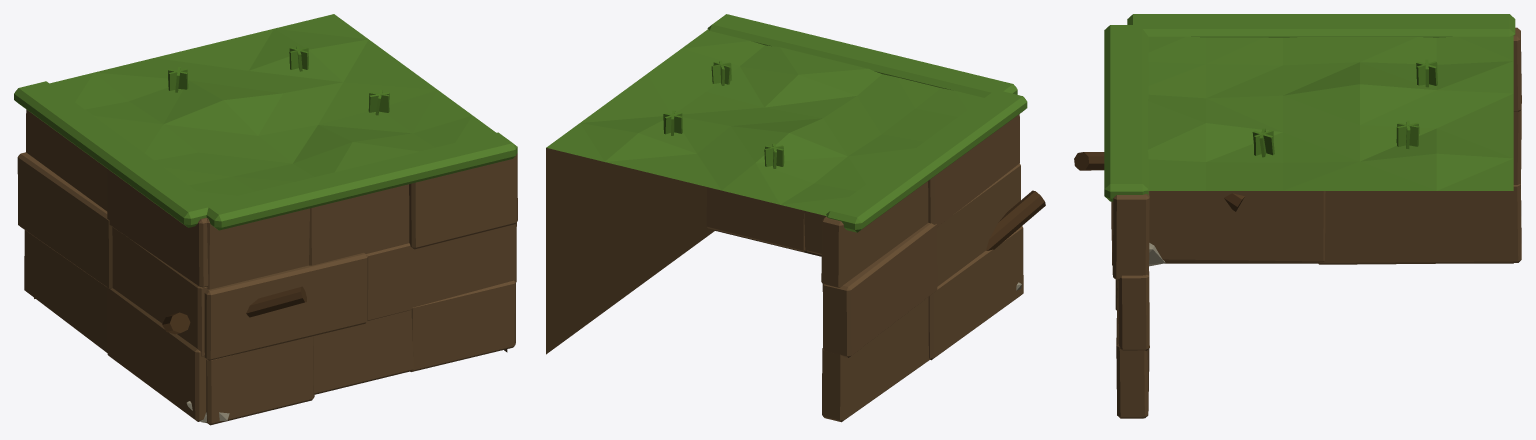
The model's file is SM_Terrain_Rustic_01_Corner.fbx.
3 renders of one model, left to right at view 1: azimuth 30°, elevation 25°; view 2: azimuth 150°, elevation 25°; view 3: azimuth 270°, elevation 25°, orthographic. The views are drawn at different scales.
Visible parts, largest first — view 1: SM_Terrain_Rustic_01_Corner_Bank, SM_Terrain_Rustic_01_Corner_StrataY10, SM_Terrain_Rustic_01_Corner_LipY, SM_Terrain_Rustic_01_Corner_StrataY11, SM_Terrain_Rustic_01_Corner_LipX, SM_Terrain_Rustic_01_Corner_StrataX11, SM_Terrain_Rustic_01_Corner_StrataY22, SM_Terrain_Rustic_01_Corner_StrataX00, SM_Terrain_Rustic_01_Corner_StrataY00, SM_Terrain_Rustic_01_Corner_StrataY02, SM_Terrain_Rustic_01_Corner_StrataY01, SM_Terrain_Rustic_01_Corner_StrataY20 (+7 smaller); view 2: SM_Terrain_Rustic_01_Corner_Bank, SM_Terrain_Rustic_01_Corner_StrataX11, SM_Terrain_Rustic_01_Corner_LipX, SM_Terrain_Rustic_01_Corner_StrataX01, SM_Terrain_Rustic_01_Corner_StrataX00, SM_Terrain_Rustic_01_Corner_LipY, SM_Terrain_Rustic_01_Corner_StrataX21, SM_Terrain_Rustic_01_Corner_StrataX20, SM_Terrain_Rustic_01_Corner_StrataX10, SM_Terrain_Rustic_01_Corner_StrataY02, SM_Terrain_Rustic_01_Corner_KnotA, SM_Terrain_Rustic_01_Corner_StrataY01; view 3: SM_Terrain_Rustic_01_Corner_Bank, SM_Terrain_Rustic_01_Corner_StrataX01, SM_Terrain_Rustic_01_Corner_StrataX00, SM_Terrain_Rustic_01_Corner_LipX, SM_Terrain_Rustic_01_Corner_LipY, SM_Terrain_Rustic_01_Corner_StrataY22, SM_Terrain_Rustic_01_Corner_StrataY11, SM_Terrain_Rustic_01_Corner_StrataY02, SM_Terrain_Rustic_01_Corner_StrataX21, SM_Terrain_Rustic_01_Corner_StrataX11, SM_Terrain_Rustic_01_Corner_KnotB.
Boxes of the visible parts, x1,y1,x2,y2 form: SM_Terrain_Rustic_01_Corner_Bank: (34, 14, 507, 352); SM_Terrain_Rustic_01_Corner_StrataY10: (204, 253, 368, 360); SM_Terrain_Rustic_01_Corner_LipY: (206, 132, 517, 230); SM_Terrain_Rustic_01_Corner_StrataY11: (366, 222, 516, 320); SM_Terrain_Rustic_01_Corner_LipX: (14, 81, 215, 227); SM_Terrain_Rustic_01_Corner_StrataX11: (17, 152, 112, 288); SM_Terrain_Rustic_01_Corner_StrataY22: (409, 153, 517, 249); SM_Terrain_Rustic_01_Corner_StrataX00: (107, 287, 206, 421); SM_Terrain_Rustic_01_Corner_StrataY00: (206, 336, 314, 425); SM_Terrain_Rustic_01_Corner_StrataY02: (410, 280, 515, 371); SM_Terrain_Rustic_01_Corner_StrataY01: (313, 310, 413, 394); SM_Terrain_Rustic_01_Corner_StrataY20: (206, 208, 309, 289); SM_Terrain_Rustic_01_Corner_Bank: (546, 29, 983, 354); SM_Terrain_Rustic_01_Corner_StrataX11: (822, 223, 937, 357); SM_Terrain_Rustic_01_Corner_LipX: (826, 91, 1027, 232); SM_Terrain_Rustic_01_Corner_StrataX01: (822, 297, 929, 422); SM_Terrain_Rustic_01_Corner_StrataX00: (928, 226, 1023, 360); SM_Terrain_Rustic_01_Corner_LipY: (707, 14, 1017, 97); SM_Terrain_Rustic_01_Corner_StrataX21: (821, 181, 928, 287); SM_Terrain_Rustic_01_Corner_StrataX20: (928, 114, 1019, 227); SM_Terrain_Rustic_01_Corner_StrataX10: (937, 163, 1020, 286); SM_Terrain_Rustic_01_Corner_StrataY02: (706, 187, 806, 252); SM_Terrain_Rustic_01_Corner_KnotA: (986, 190, 1045, 250); SM_Terrain_Rustic_01_Corner_StrataY01: (804, 210, 825, 254); SM_Terrain_Rustic_01_Corner_Bank: (1145, 35, 1513, 263); SM_Terrain_Rustic_01_Corner_StrataX01: (1318, 184, 1521, 264); SM_Terrain_Rustic_01_Corner_StrataX00: (1149, 191, 1325, 262); SM_Terrain_Rustic_01_Corner_LipX: (1127, 14, 1515, 37); SM_Terrain_Rustic_01_Corner_LipY: (1104, 25, 1148, 201); SM_Terrain_Rustic_01_Corner_StrataY22: (1111, 191, 1149, 280); SM_Terrain_Rustic_01_Corner_StrataY11: (1117, 271, 1149, 350); SM_Terrain_Rustic_01_Corner_StrataY02: (1116, 291, 1149, 418); SM_Terrain_Rustic_01_Corner_StrataX21: (1513, 27, 1521, 111); SM_Terrain_Rustic_01_Corner_StrataX11: (1513, 110, 1521, 184); SM_Terrain_Rustic_01_Corner_KnotB: (1074, 152, 1104, 170).
Size of the model in its own units: 2.29 by 1.48 by 2.33.
